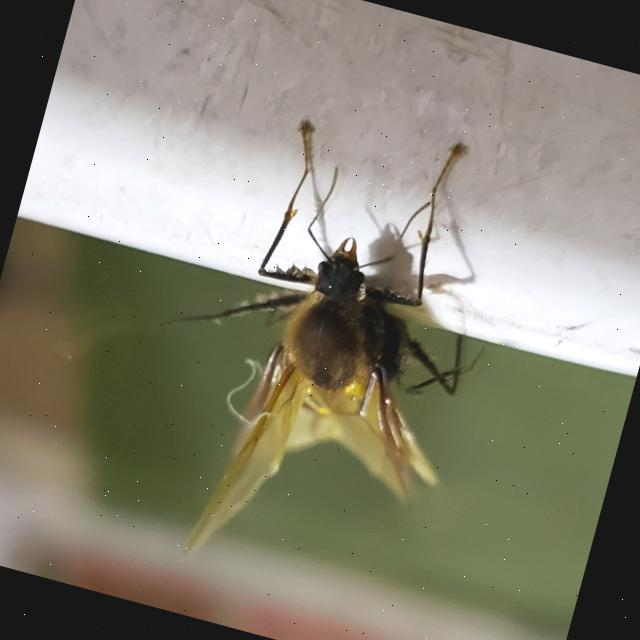Alive-Male-Alate: (99, 77, 535, 624)
